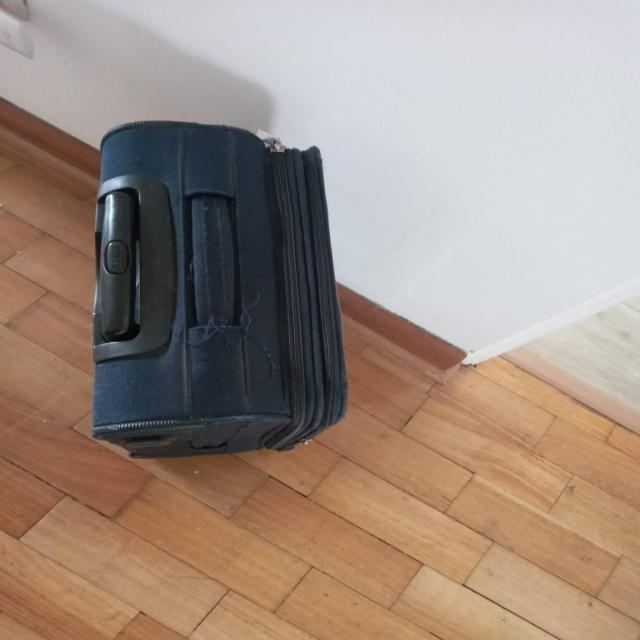Suitcase: (94, 119, 346, 459)
